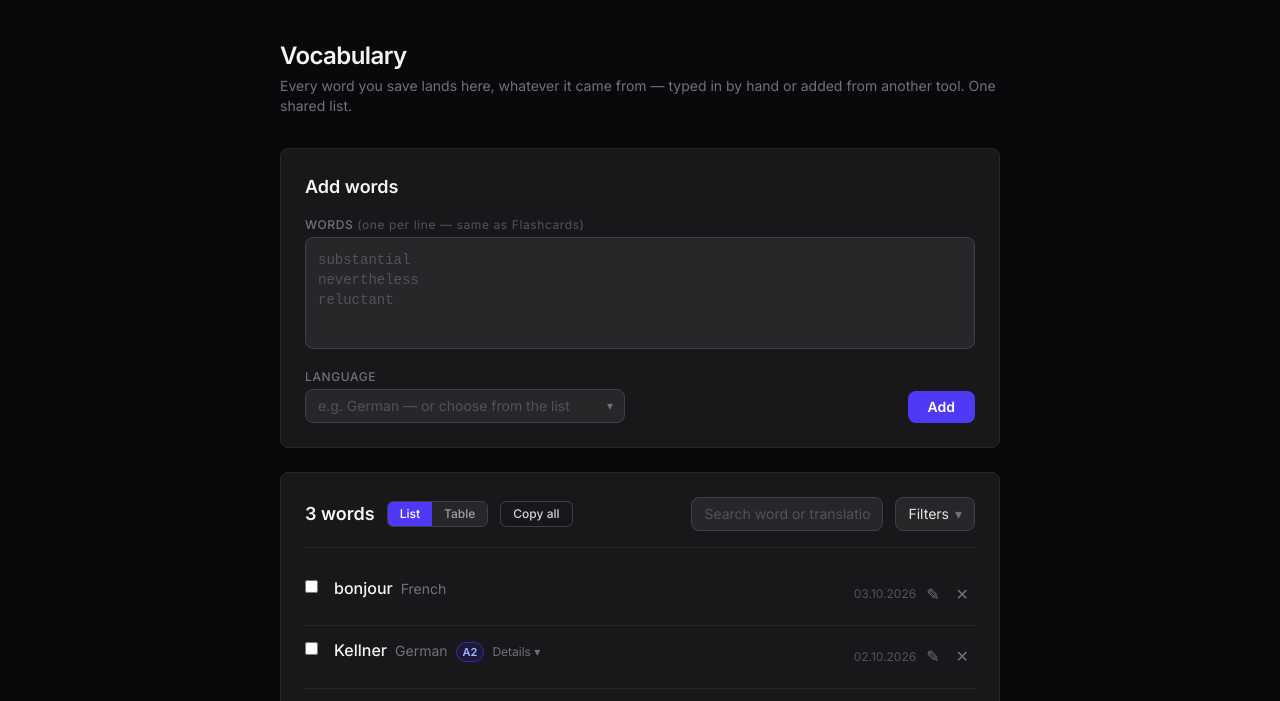
Test case: deleting several words at once › asks first, then deletes exactly what is ticked
Click the checkbox titled "Select" next to "bonjour": (312, 586) [305,580,318,593]
(page scrolled)
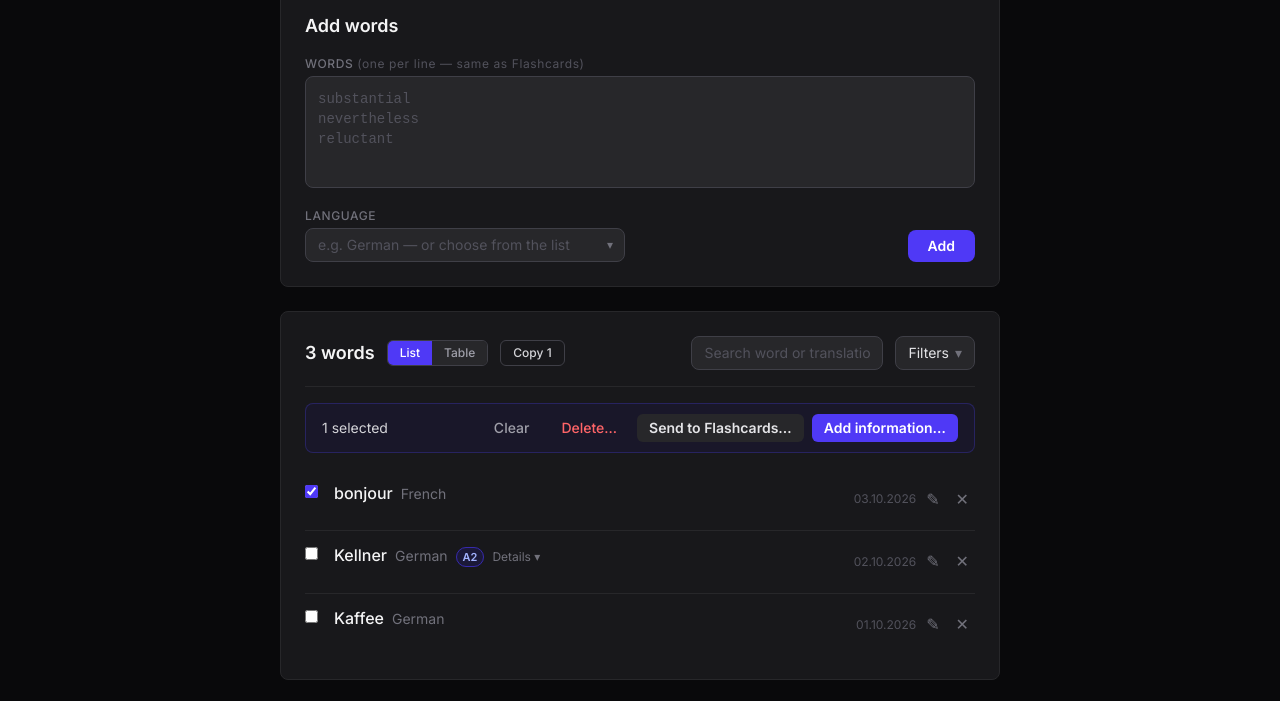
Click the checkbox titled "Select" next to "Kellner": (312, 554) [305,547,318,560]
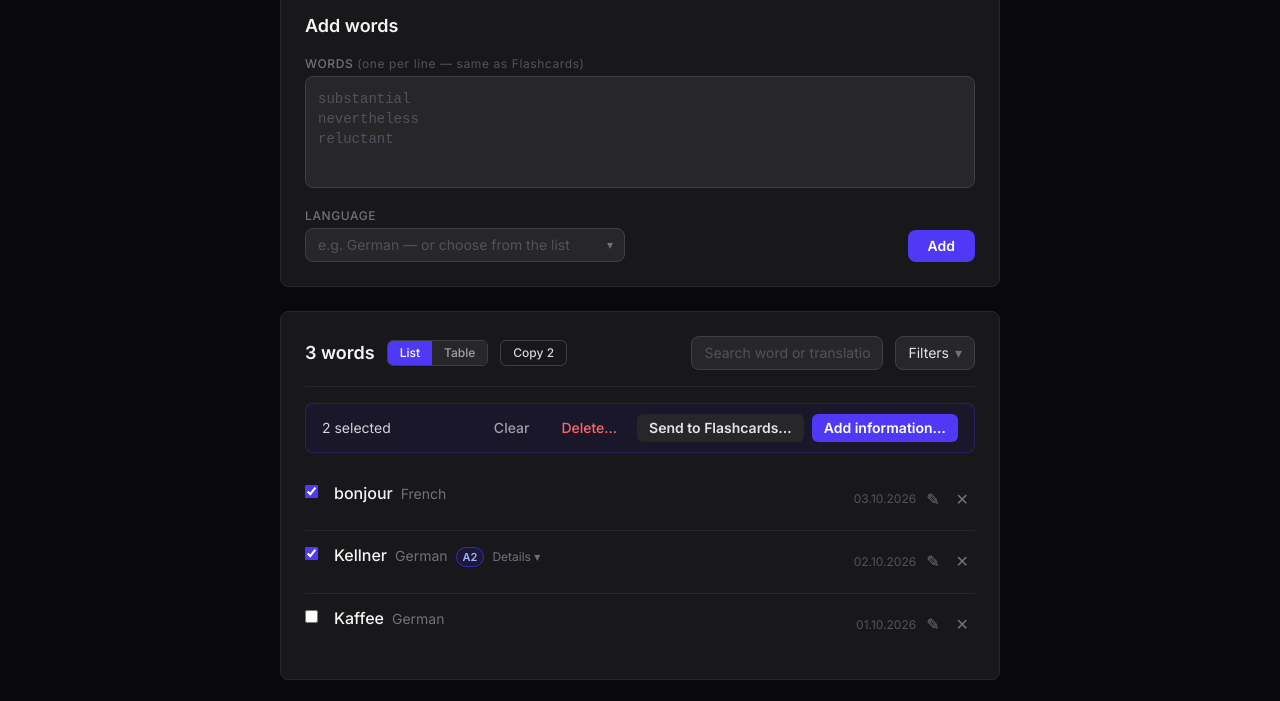
Click the button "Delete…": (589, 428) [549,414,629,442]
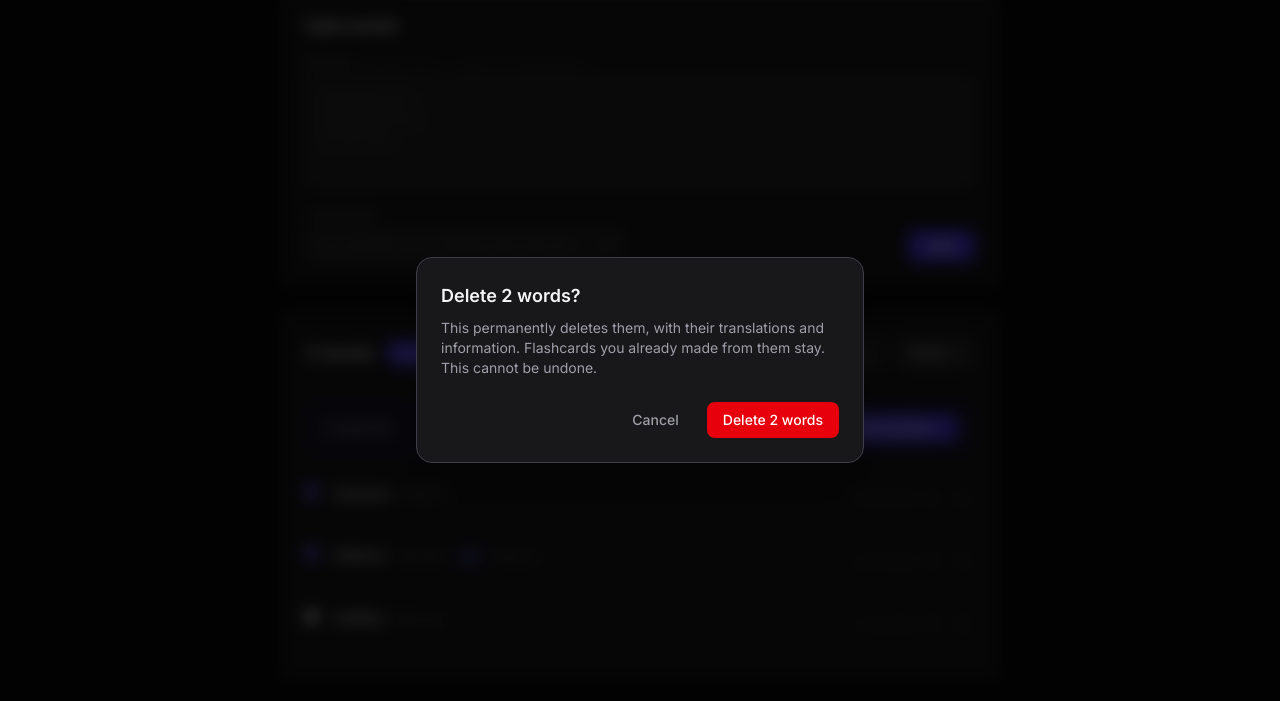
Result: the dialog "Delete 2 words?" is shown at [416,257,864,463]
Click the button "Delete 2 words": (773, 420) [707,402,839,438]
(page scrolled)
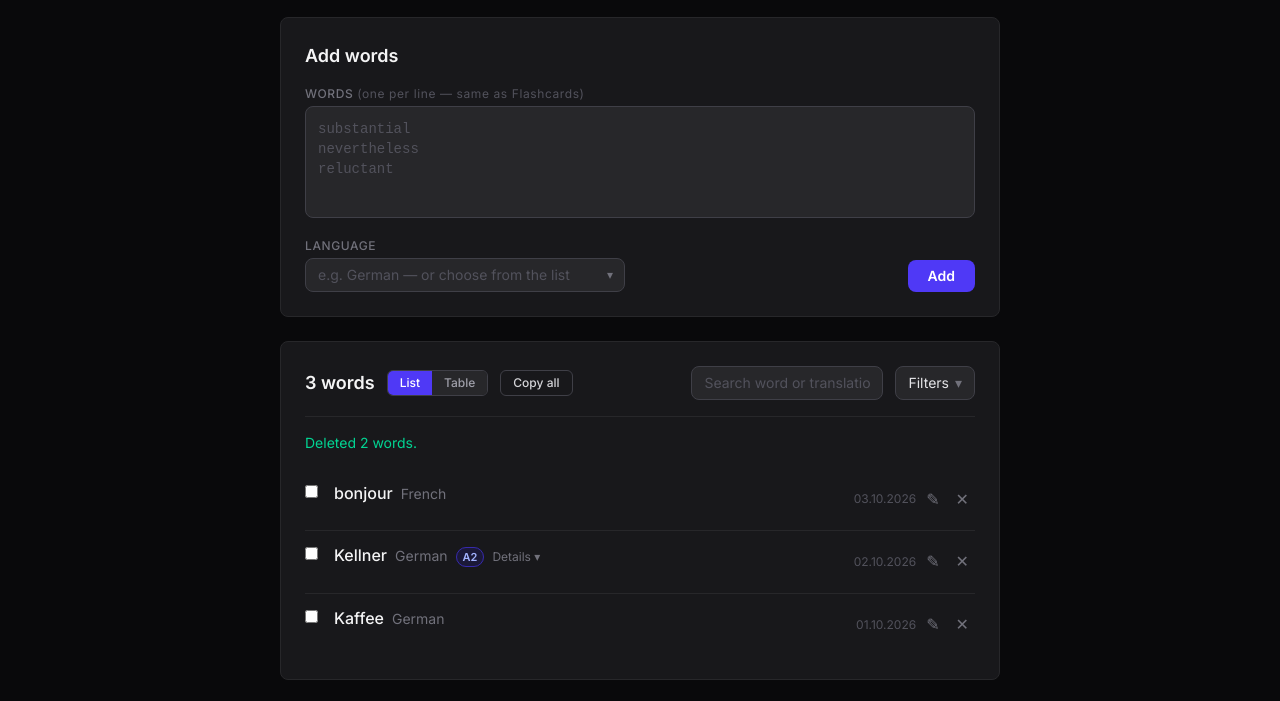
Expected: the text "selected" is not shown
Result: the text "Deleted 2 words." is shown at [305,434,417,451]
Result: the dialog is gone
